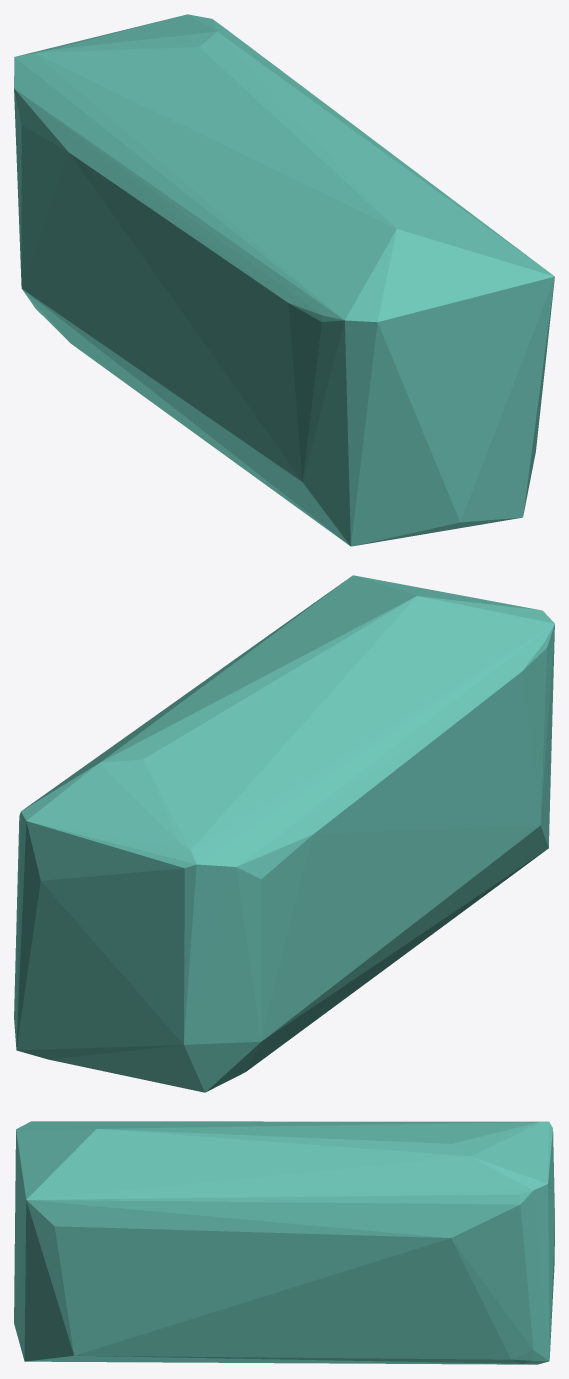
The model's file is food_beverage_boxedDrink_b01.glb.
The picture shows the model from 3 angles, top to bottom: view 1: azimuth 30°, elevation 25°; view 2: azimuth 150°, elevation 25°; view 3: azimuth 270°, elevation 25°; orthographic projection. The views are drawn at different scales.
Visible parts, largest first — view 1: geometry_0; view 2: geometry_0; view 3: geometry_0.
Part boxes in pixels (<box>): geometry_0: <box>14,14,554,546</box>; geometry_0: <box>14,575,554,1092</box>; geometry_0: <box>14,1121,554,1364</box>.
Size of the model in its own units: 0.1872 by 0.2123 by 0.4797.
